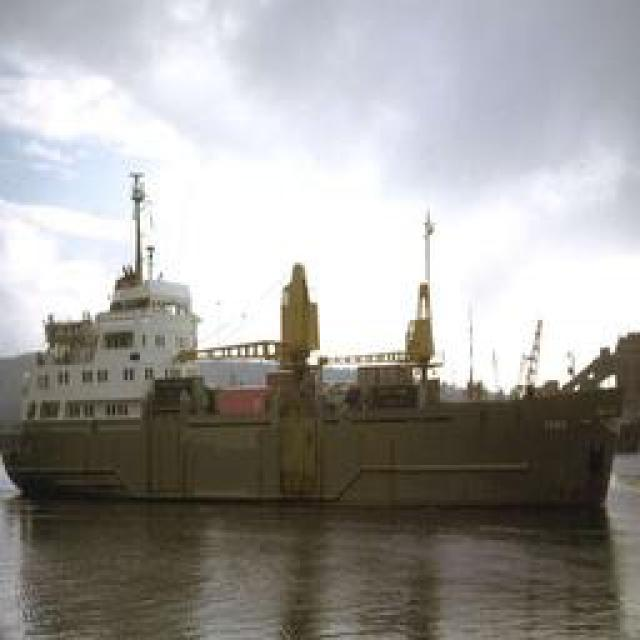Ship: (12, 221, 615, 499)
